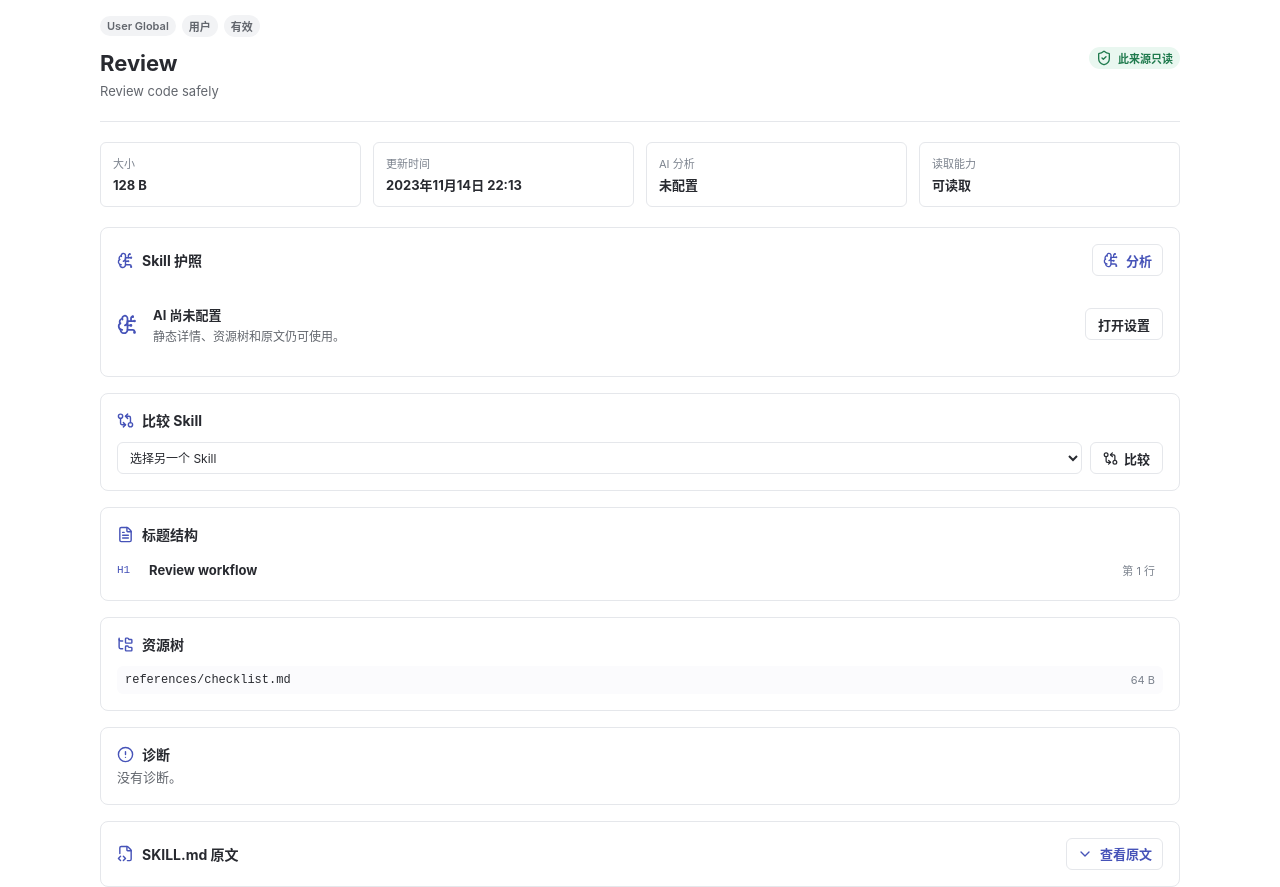
Test case: SkillDetailPage › requests source only when the user expands it
(page scrolled)
Expected: the heading "Review" is shown, [100,50,178,76]
Click the button "查看原文".
click(1114, 854)  # box [1066,838,1163,870]
(page scrolled)
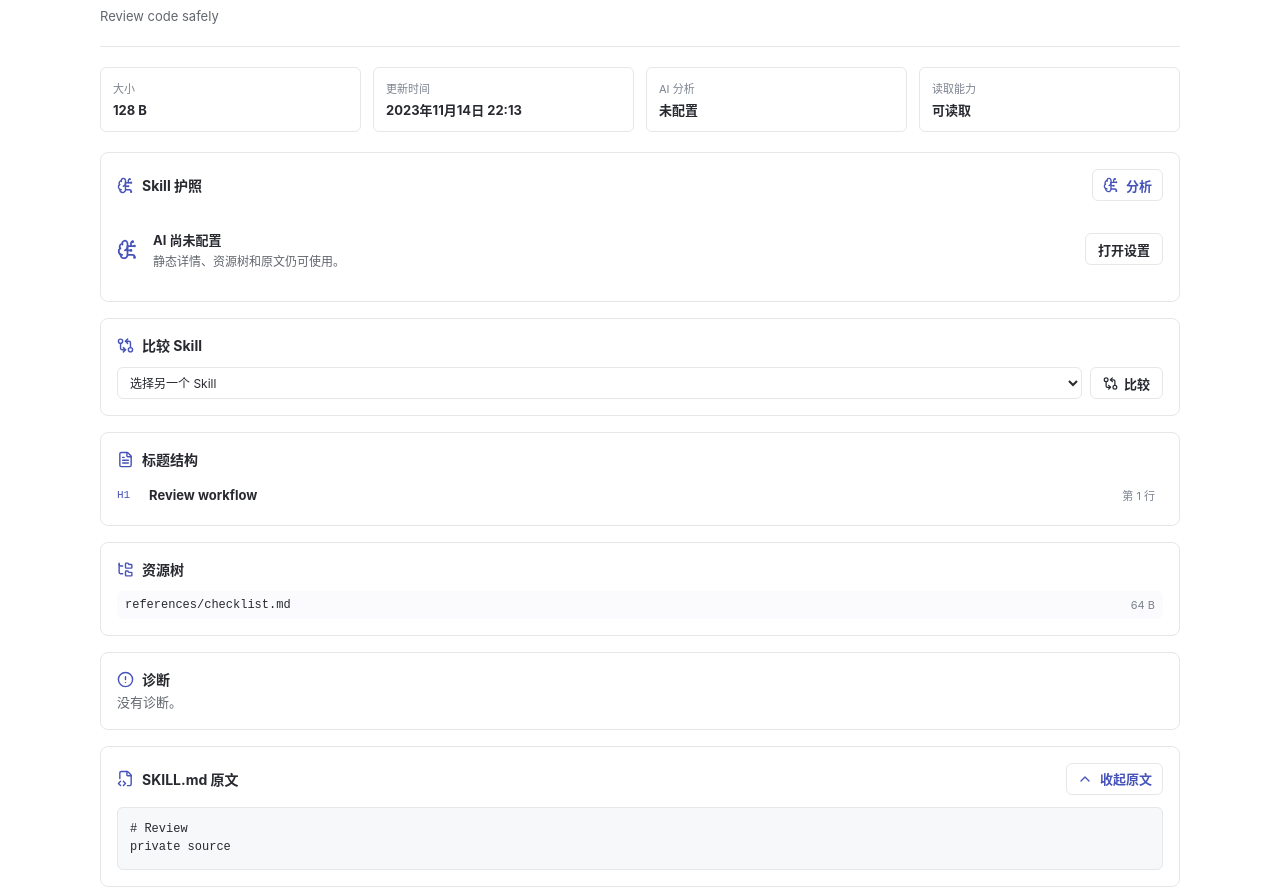
Expected: the text "# Review private source" is shown, [117,807,1163,870]
